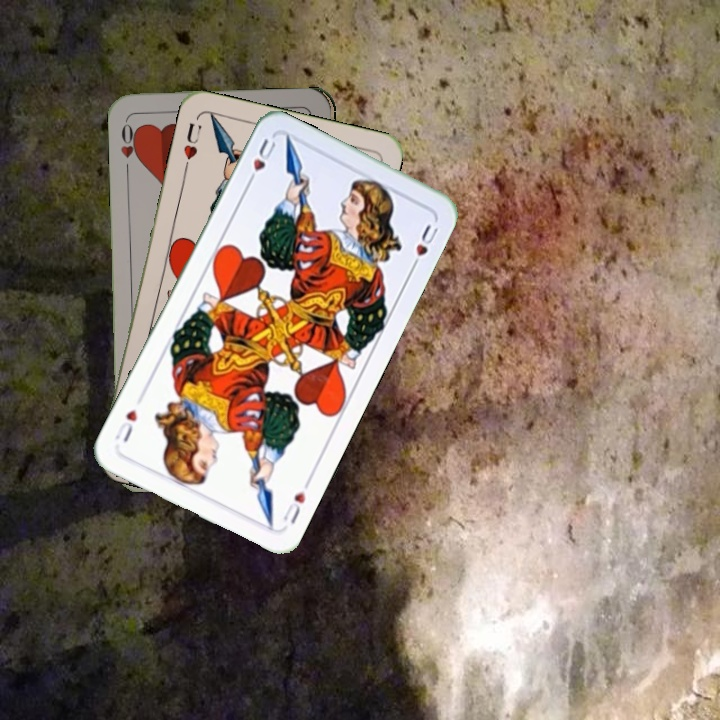HO: (116, 117, 142, 176)
HU: (242, 134, 279, 189), (179, 118, 204, 173), (279, 487, 308, 527)
